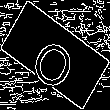O_NE: (27, 22, 83, 88)
